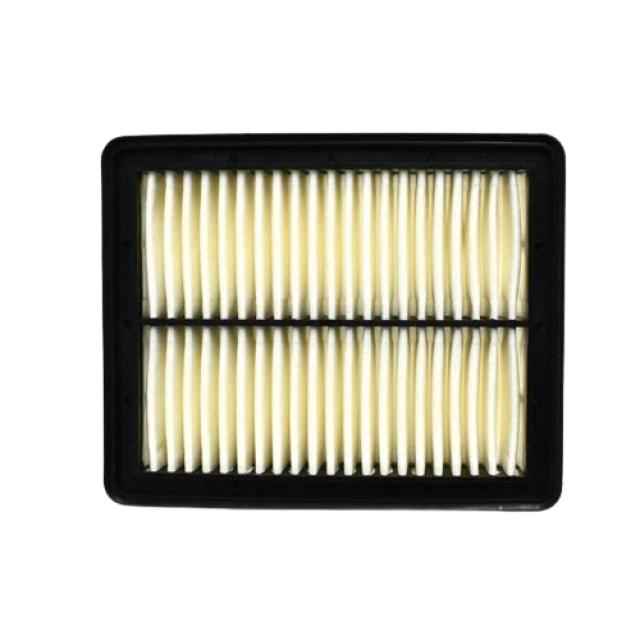air_filter: (93, 115, 575, 527)
